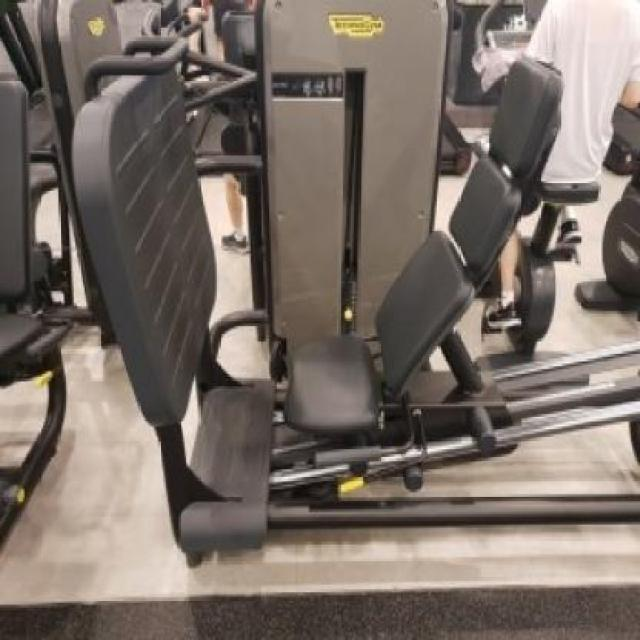leg press: (57, 0, 640, 568)
